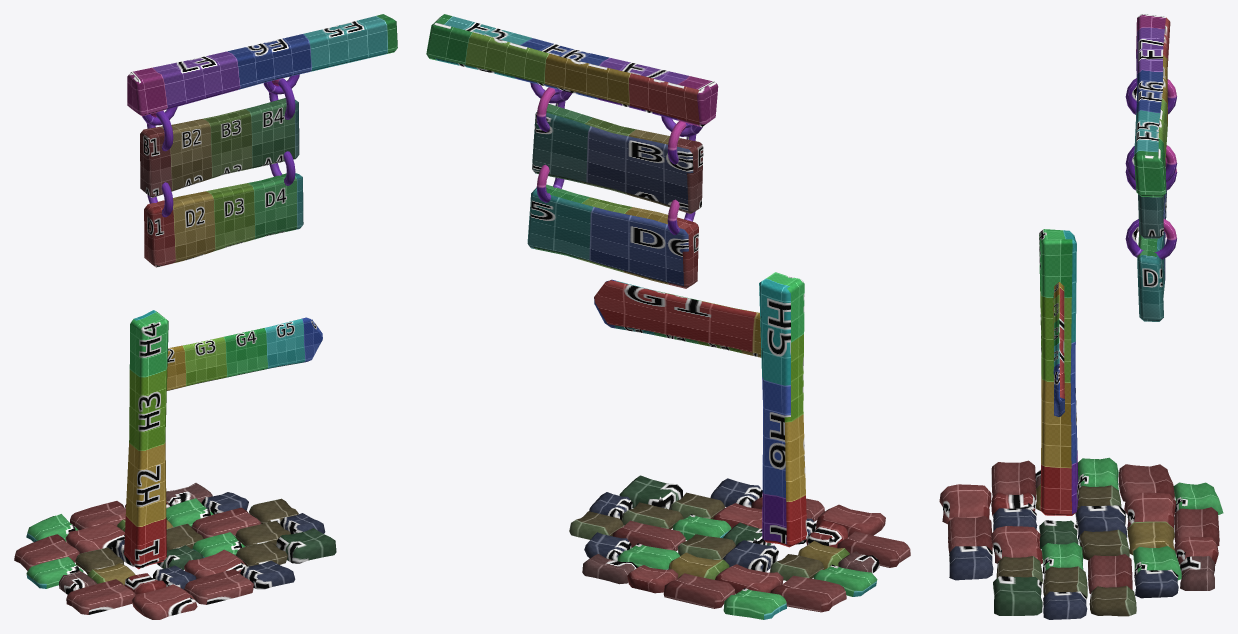
Rendered from Menu.glb.
The picture shows the model from 3 angles, left to right: view 1: azimuth 30°, elevation 25°; view 2: azimuth 150°, elevation 25°; view 3: azimuth 270°, elevation 25°; orthographic projection. The views are drawn at different scales.
Parts seen in each view (by area): view 1: Signs, Floor; view 2: Signs, Floor; view 3: Floor, Signs.
Part boxes in pixels (x1,y1,x2,y2): Signs: [124, 14, 397, 569]; Floor: [14, 483, 336, 619]; Signs: [426, 14, 807, 547]; Floor: [569, 475, 910, 619]; Floor: [939, 457, 1223, 619]; Signs: [1039, 14, 1177, 515].
Size of the model in its own units: 3.2 by 3.65 by 1.79.
2 materials, 2 textured.
